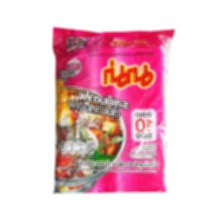snack: (46, 21, 180, 199)
